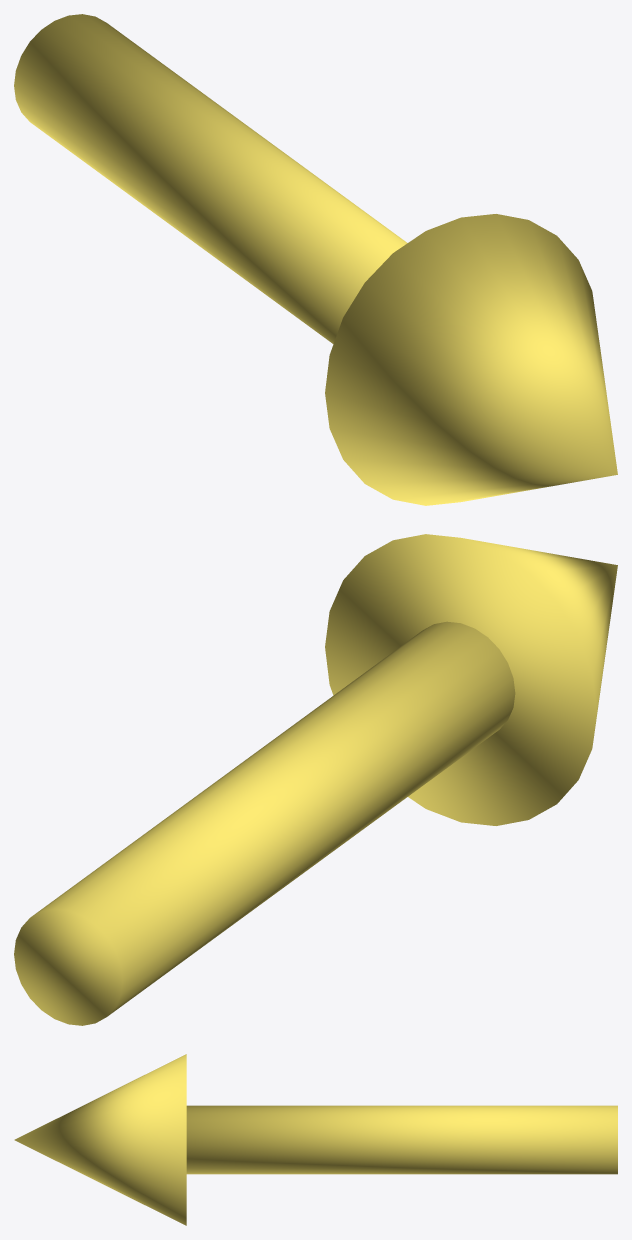
File: ui_arrow.glb
The picture shows the model from 3 angles, top to bottom: view 1: azimuth 30°, elevation 25°; view 2: azimuth 150°, elevation 25°; view 3: azimuth 270°, elevation 25°; orthographic projection. The views are drawn at different scales.
Visible parts, largest first — view 1: arrow_head, arrow_shaft; view 2: arrow_shaft, arrow_head; view 3: arrow_shaft, arrow_head.
Part boxes in pixels (bbox=[...]): arrow_head: bbox=[325, 214, 617, 505]; arrow_shaft: bbox=[14, 14, 407, 343]; arrow_shaft: bbox=[14, 621, 515, 1025]; arrow_head: bbox=[325, 534, 617, 825]; arrow_shaft: bbox=[186, 1105, 617, 1174]; arrow_head: bbox=[14, 1054, 186, 1225].
Size of the model in its own units: 0.02 by 0.02 by 0.07.
